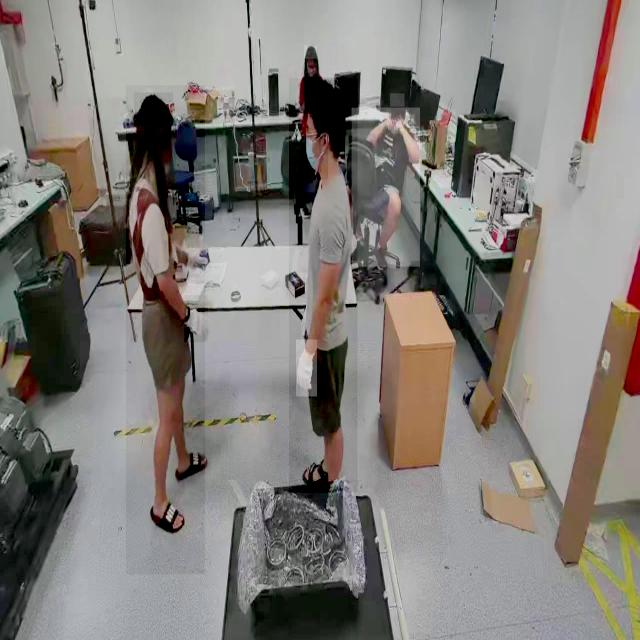face_mask: (301, 116, 328, 180)
hand_glove: (296, 340, 318, 398), (184, 295, 208, 342)
hand_noglove: (382, 114, 394, 130), (394, 118, 404, 132)
head_nohelmet: (304, 77, 346, 115), (134, 93, 174, 127), (390, 94, 405, 108), (304, 46, 318, 60)
person: (126, 85, 206, 575), (289, 79, 358, 494), (352, 108, 421, 268)
